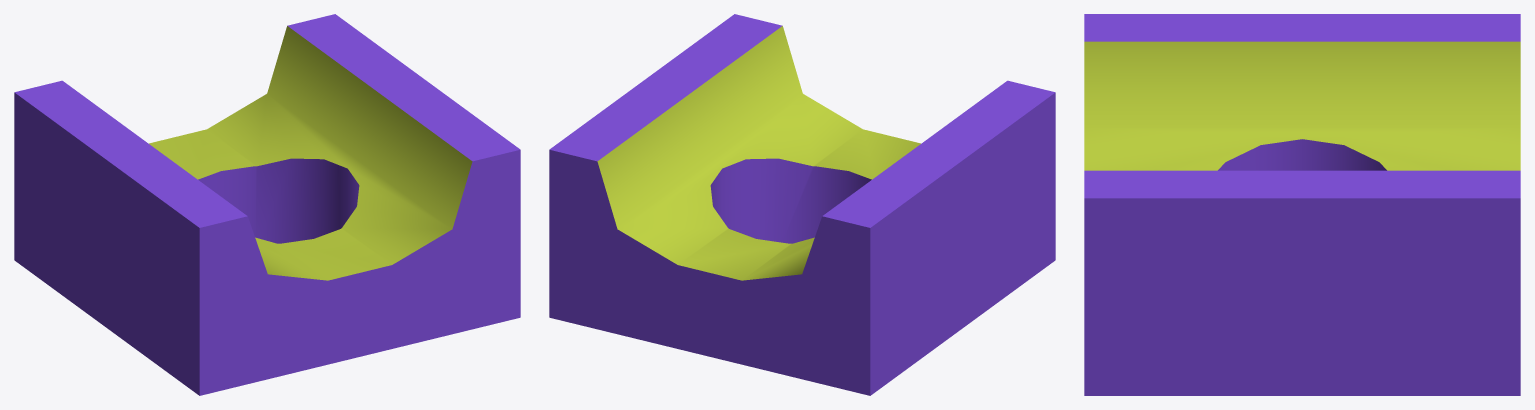
Rendered from straight_hole-col.dae.
3 renders of one model, left to right at view 1: azimuth 30°, elevation 25°; view 2: azimuth 150°, elevation 25°; view 3: azimuth 270°, elevation 25°, orthographic. The views are drawn at different scales.
Visible parts, largest first — view 1: straight_hole-col; view 2: straight_hole-col; view 3: straight_hole-col.
Boxes of the visible parts, x1=… form: straight_hole-col: x1=14, y1=14, x2=520, y2=395; straight_hole-col: x1=549, y1=14, x2=1055, y2=395; straight_hole-col: x1=1084, y1=14, x2=1520, y2=395.
Bounding box in the file's own units: 1 × 1 × 0.5.
